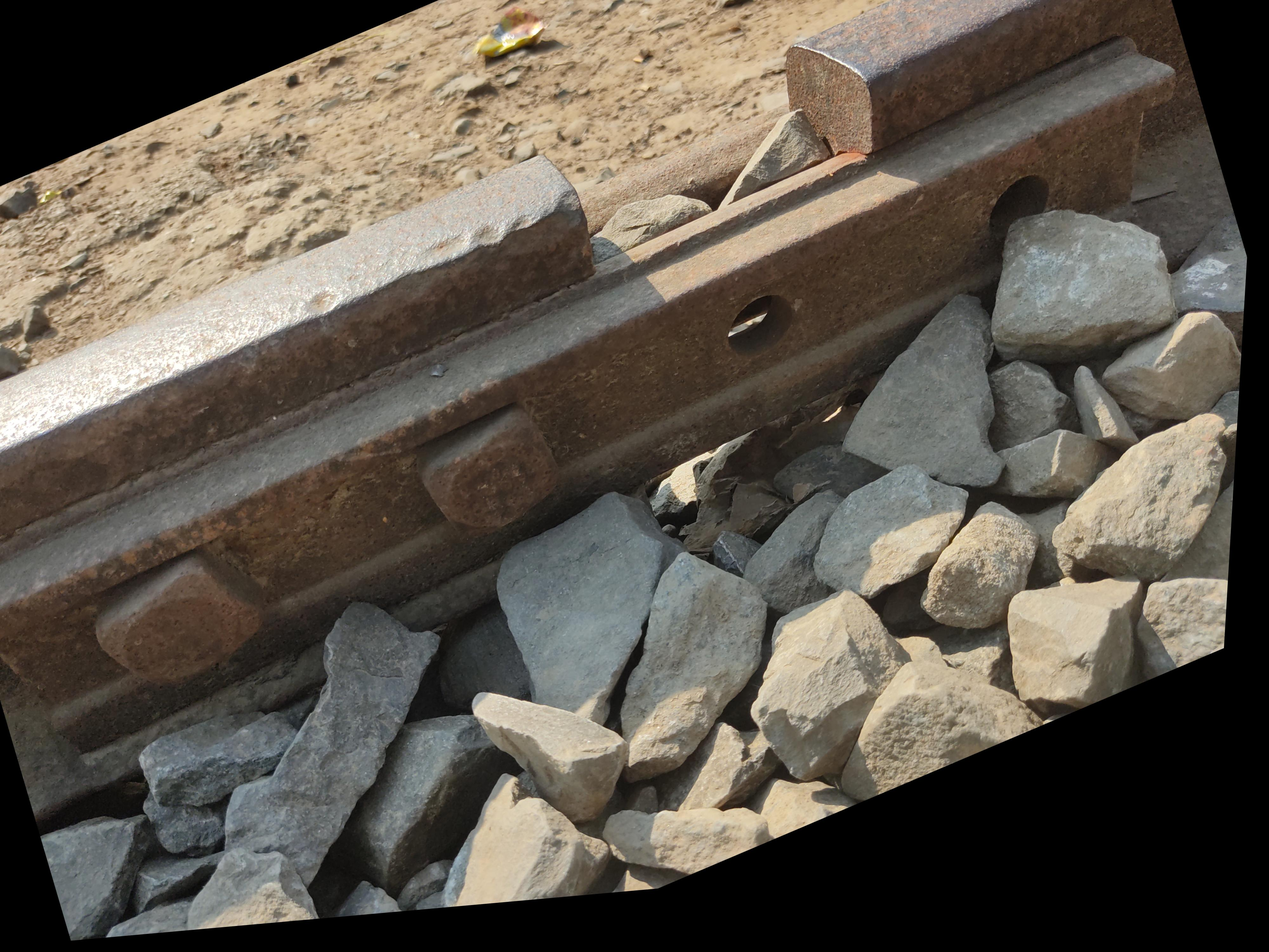person: (327, 195, 825, 610)
